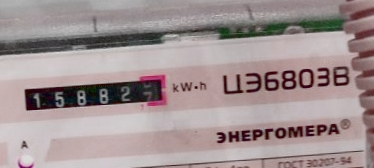1: (31, 91, 42, 110)
2: (119, 84, 130, 102)
5: (52, 90, 65, 108)
7: (141, 89, 152, 103)
8: (75, 88, 87, 106), (98, 87, 108, 104)
screen: (16, 71, 173, 116)
